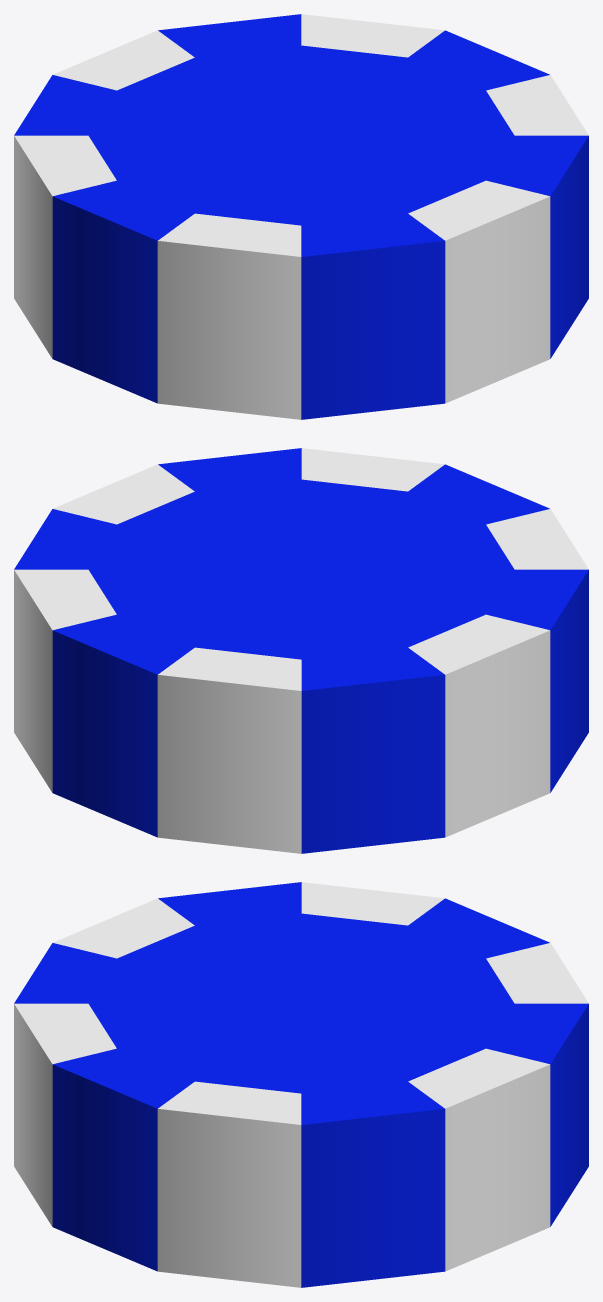
The model's file is Poker Chip Blue.FBX.
3 renders of one model, top to bottom at view 1: azimuth 30°, elevation 25°; view 2: azimuth 150°, elevation 25°; view 3: azimuth 270°, elevation 25°, orthographic.
Visible parts, largest first — view 1: Poker Chip Blue; view 2: Poker Chip Blue; view 3: Poker Chip Blue.
Boxes of the visible parts, x1=… form: Poker Chip Blue: x1=14, y1=14, x2=588, y2=419; Poker Chip Blue: x1=14, y1=448, x2=588, y2=853; Poker Chip Blue: x1=14, y1=882, x2=588, y2=1287.
Size of the model in its own units: 0.016 by 0.005 by 0.016.
